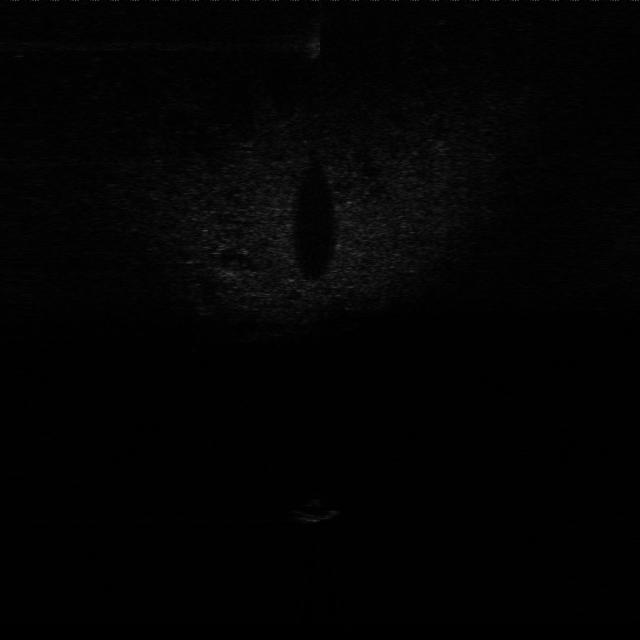ball: (291, 494, 343, 526)
